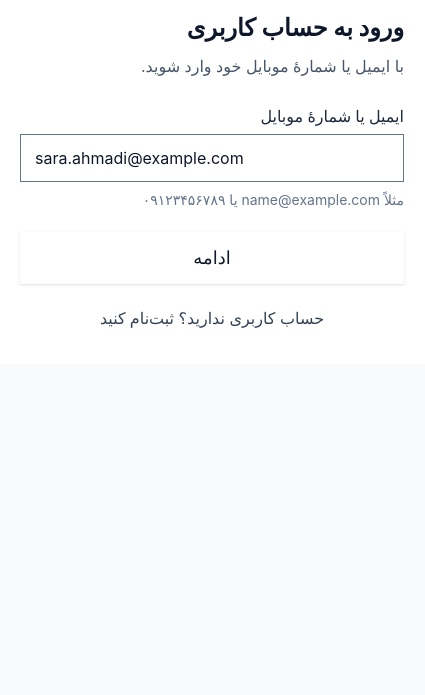
Test: waits after a 429 › a throttled password login waits retry_after before «ورود» sends again
The width and height of the screenshot is (425, 695).
Later steps or results of the test are not shown.
Click the button "ادامه": coordinates (212, 258) [20,232,404,284]
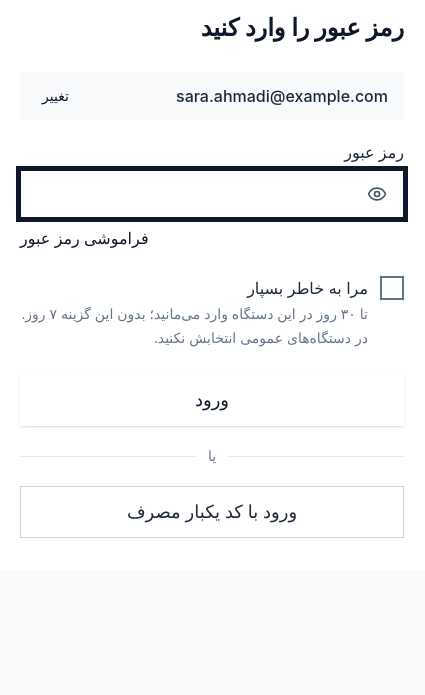
In the password field labelled "رمز عبور": coordinates (188, 194) [21,171,355,217], type "Firefly@1234"
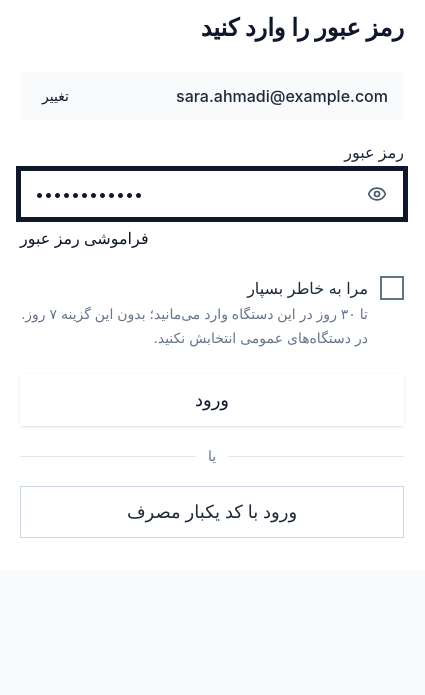
Click the button "ورود": coordinates (212, 400) [20,374,404,426]
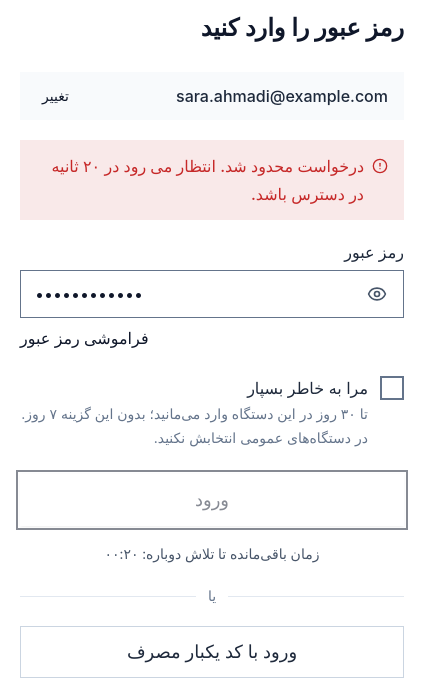
Now the message shows "در ۲۰ ثانیه", box [52,156,364,204]
Click the button "ورود": coordinates (212, 500) [20,474,404,526]
Press Enter
In the password field labelled "رمز عبور": coordinates (188, 294) [21,271,355,317], type "!"
Wait 20000 ms
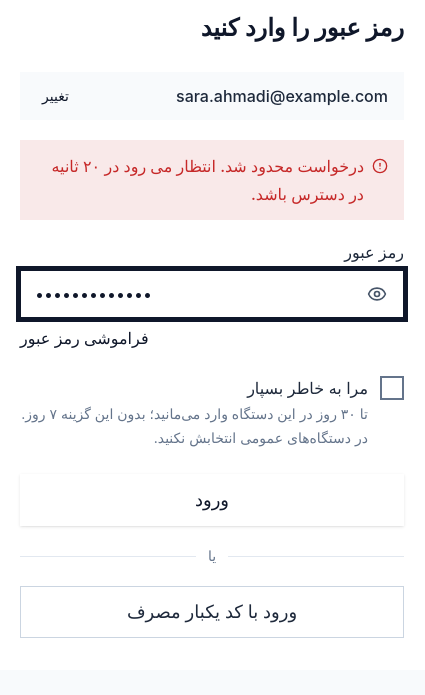
Now the button "ورود" does not have attribute aria-disabled, box [20,474,404,526]
